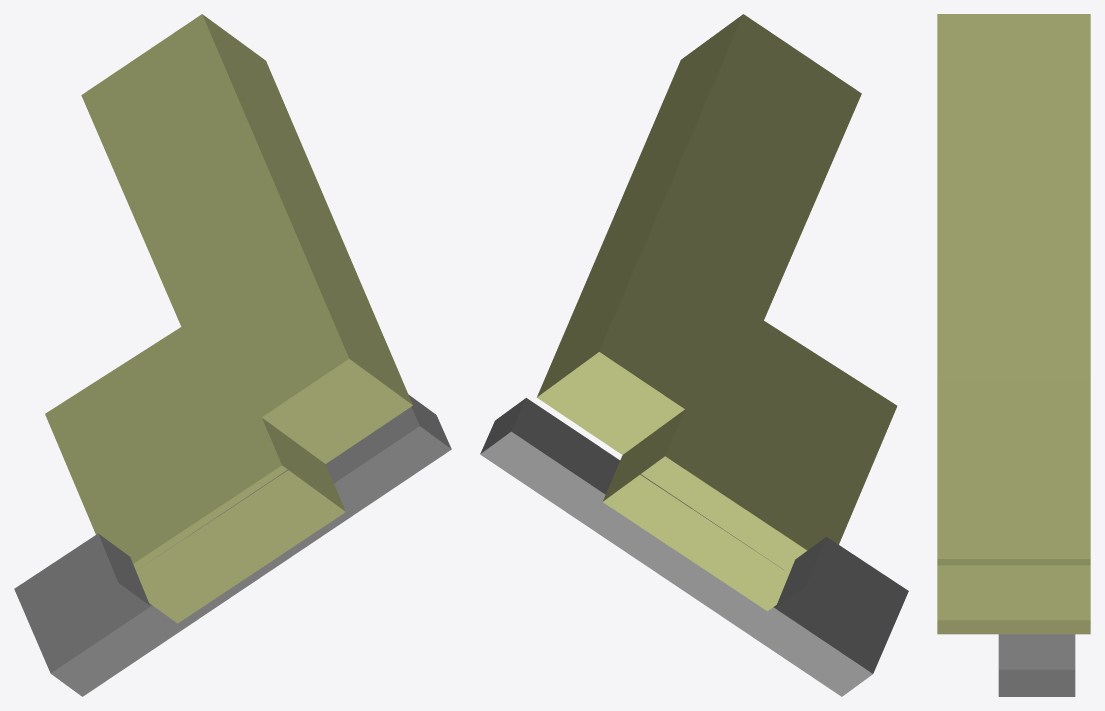
3 renders of one model, left to right at view 1: azimuth 30°, elevation 25°; view 2: azimuth 150°, elevation 25°; view 3: azimuth 270°, elevation 25°, orthographic. The views are drawn at different scales.
Parts seen in each view (by area): view 1: 0_1_0_2_0_3_1_1_2; view 2: 0_1_0_2_0_3_1_1_2; view 3: 0_1_0_2_0_3_1_1_2.
Part boxes in pixels (x1,y1,x2,y2): 0_1_0_2_0_3_1_1_2: (14,14,451,696); 0_1_0_2_0_3_1_1_2: (480,14,908,696); 0_1_0_2_0_3_1_1_2: (937,14,1090,696).
Size of the model in its own units: 22.01 by 31.95 by 6.
